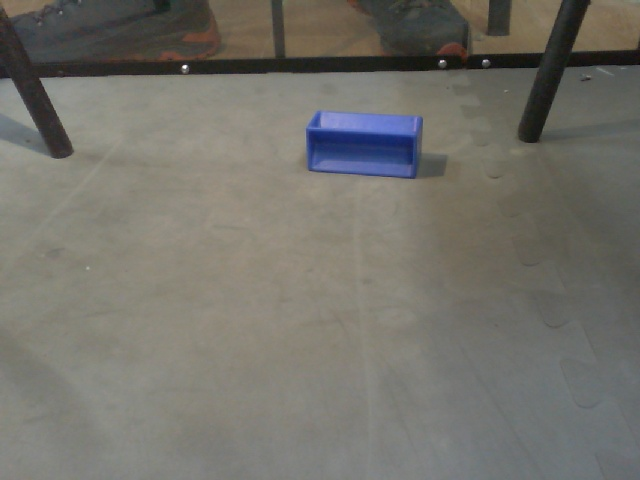BlueSample: (299, 105, 434, 188)
